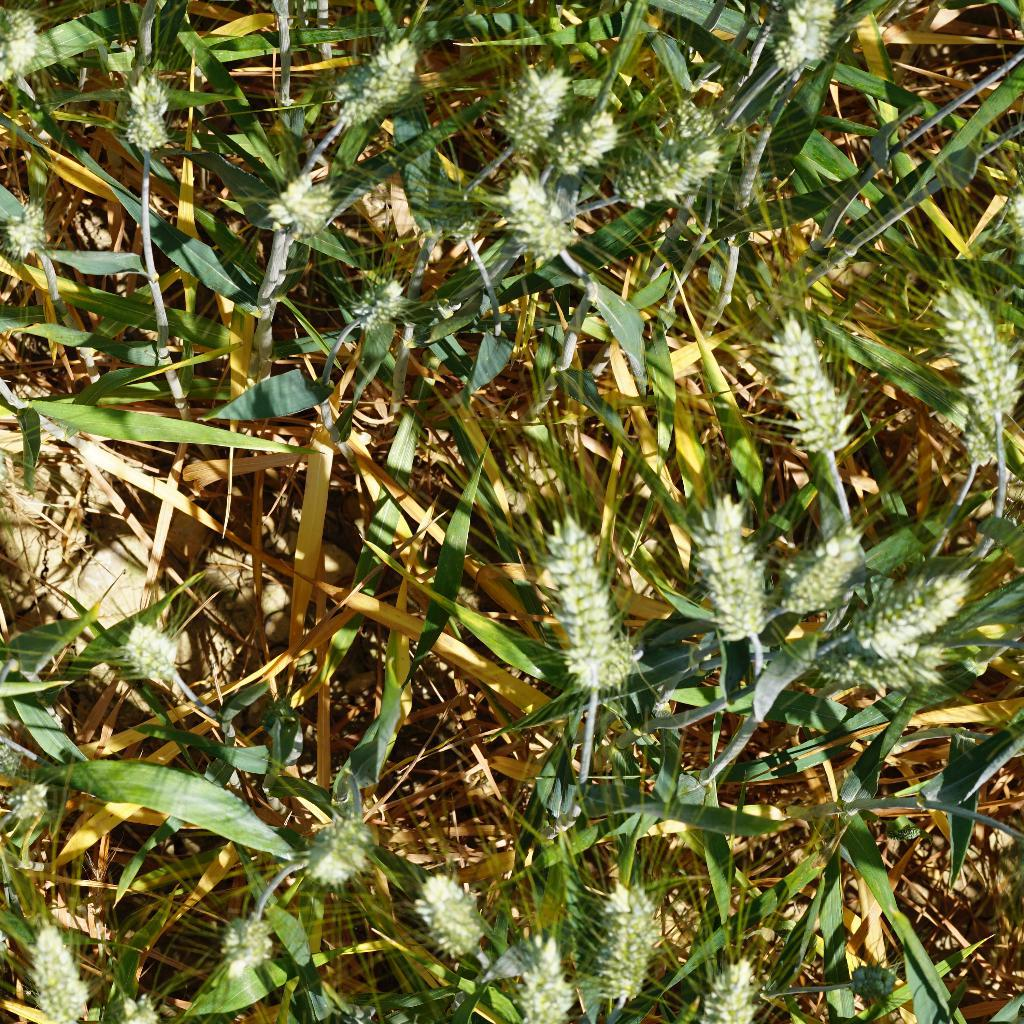0-0: (523, 497, 635, 702), (676, 481, 769, 656), (929, 276, 1020, 438), (804, 630, 964, 701), (768, 320, 849, 459), (860, 564, 968, 653), (778, 520, 869, 624), (422, 859, 503, 972), (594, 882, 662, 1012), (321, 41, 421, 127), (292, 807, 384, 897), (497, 167, 583, 262), (617, 126, 714, 209), (103, 608, 192, 695), (260, 167, 354, 239), (25, 931, 92, 1024), (505, 934, 574, 1024), (743, 0, 829, 71), (337, 273, 426, 336), (112, 71, 172, 160), (497, 60, 556, 150), (545, 100, 613, 174), (213, 903, 277, 981), (698, 950, 765, 1024), (2, 195, 63, 273), (838, 955, 907, 1011), (0, 0, 49, 77), (957, 413, 1004, 493), (0, 775, 57, 838), (103, 990, 180, 1024)
